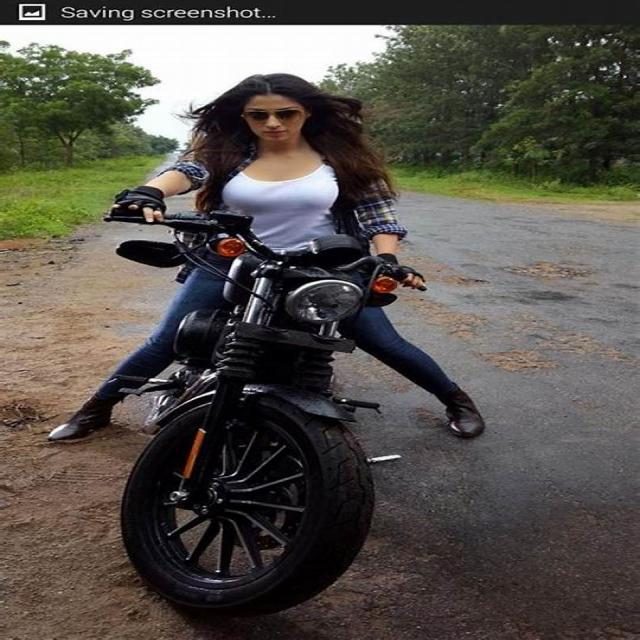Not Wearing Helmet: (110, 77, 450, 200)
